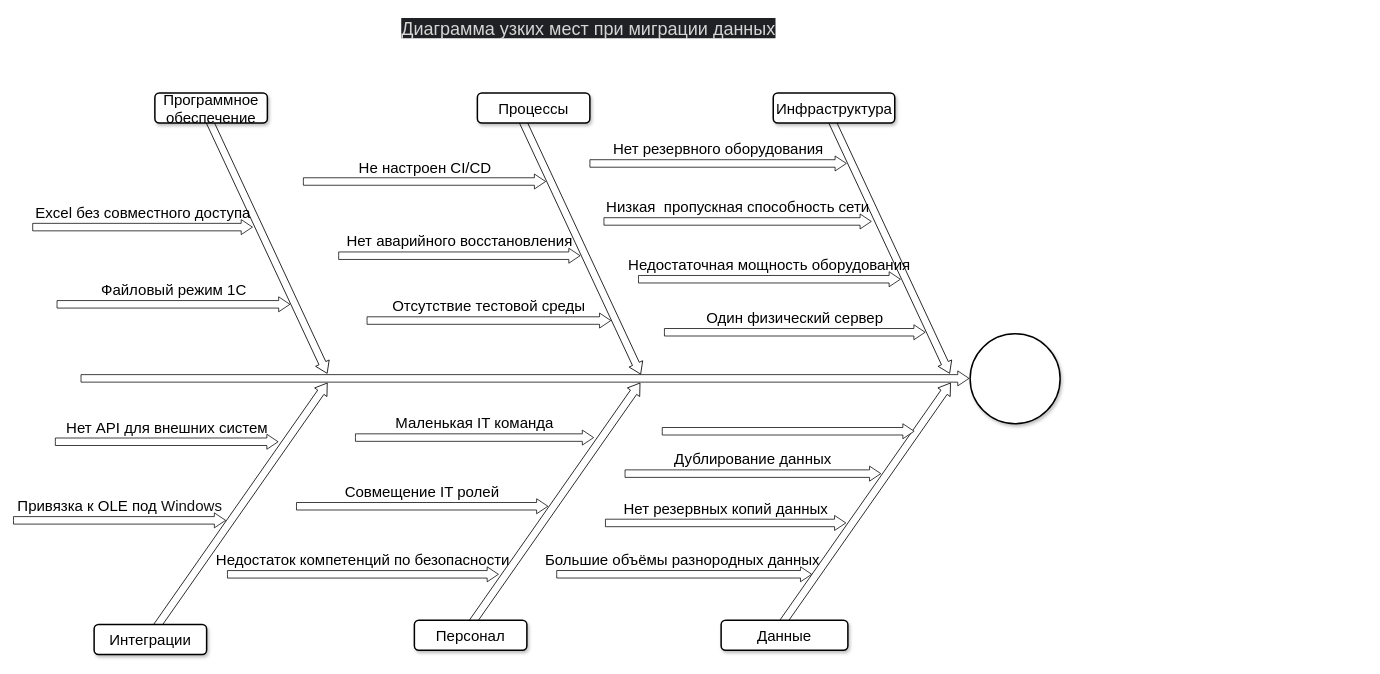
Image size: 1380x674. Some labels were removed from this diagram. The centre of each missing label's shape, as x and y in pixels:
Данные не классифицированы: the point at 788,431
Проблемы при миграции: the point at 1015,379
